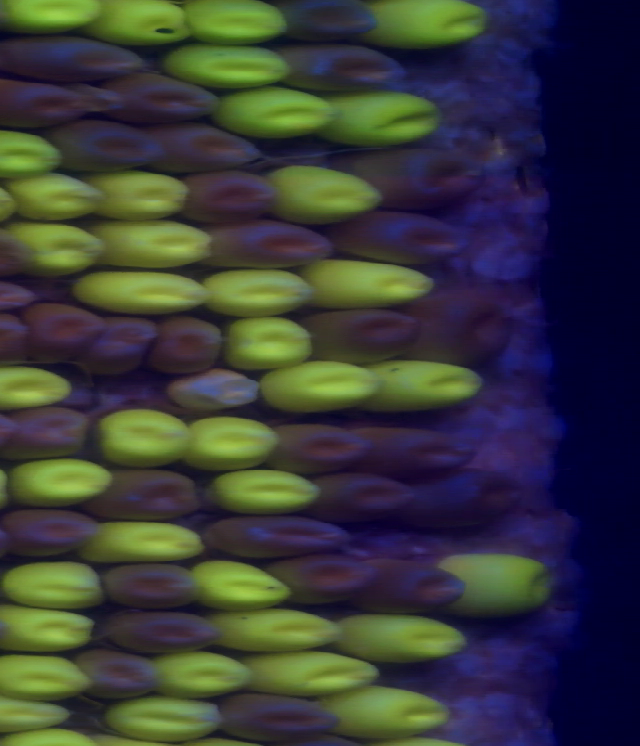fluorescent: (326, 604, 468, 665), (434, 551, 556, 619), (301, 252, 440, 310), (318, 85, 438, 150), (67, 265, 217, 316), (265, 165, 386, 228), (365, 354, 486, 417), (316, 682, 454, 737), (185, 553, 294, 617), (210, 82, 337, 136), (167, 40, 293, 92), (85, 516, 211, 567), (209, 469, 329, 521), (232, 653, 383, 694), (369, 1, 499, 48), (104, 693, 228, 742), (201, 267, 319, 316), (0, 561, 110, 613), (92, 218, 213, 265), (139, 650, 265, 695), (207, 610, 347, 650), (228, 312, 315, 376), (270, 367, 382, 416), (3, 168, 104, 221), (179, 1, 292, 48), (12, 221, 106, 277), (179, 418, 277, 471), (93, 406, 184, 463), (90, 167, 191, 218), (94, 1, 197, 49), (0, 652, 95, 703), (0, 602, 100, 648), (5, 462, 110, 502), (0, 362, 73, 415), (0, 128, 63, 179), (7, 1, 107, 31), (0, 691, 73, 730)
nonfluorescent: (341, 148, 489, 210), (403, 293, 515, 368), (0, 28, 147, 82), (401, 470, 524, 532), (198, 515, 356, 562), (204, 219, 337, 274), (266, 419, 378, 484), (333, 211, 471, 263), (216, 690, 337, 746), (154, 119, 270, 177), (298, 309, 424, 362), (102, 68, 221, 124), (341, 427, 477, 475), (357, 560, 467, 617), (51, 121, 164, 176), (268, 41, 405, 86), (18, 301, 105, 370), (310, 471, 418, 526), (179, 169, 283, 223), (107, 606, 219, 655), (96, 475, 205, 525), (0, 507, 99, 562), (266, 556, 380, 602), (150, 315, 227, 380), (3, 402, 90, 459), (99, 563, 209, 605), (82, 313, 155, 376), (0, 77, 90, 128), (74, 649, 162, 699), (278, 1, 381, 42), (0, 224, 37, 288), (0, 268, 38, 319), (0, 310, 34, 364)
